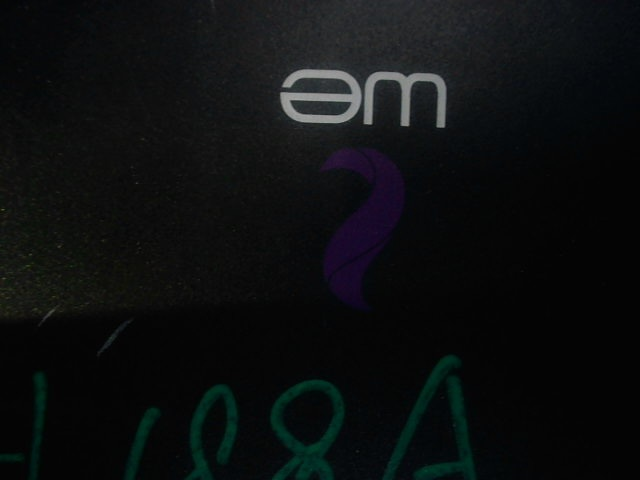AT_We: (271, 68, 463, 312)
